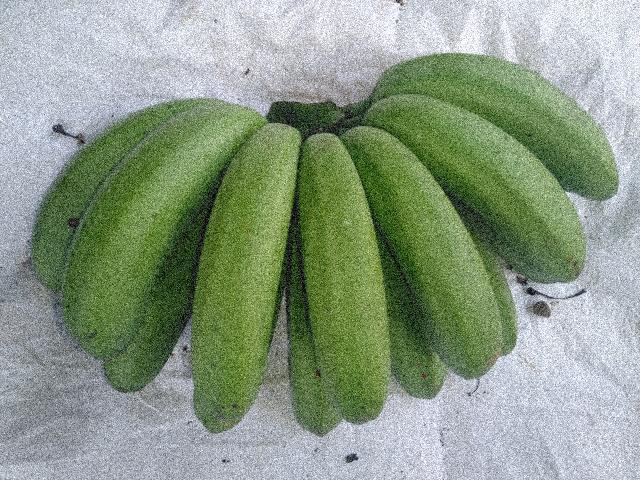unripe: (379, 79, 597, 306), (57, 95, 236, 371), (350, 126, 499, 373), (190, 117, 302, 430), (292, 116, 404, 424)
